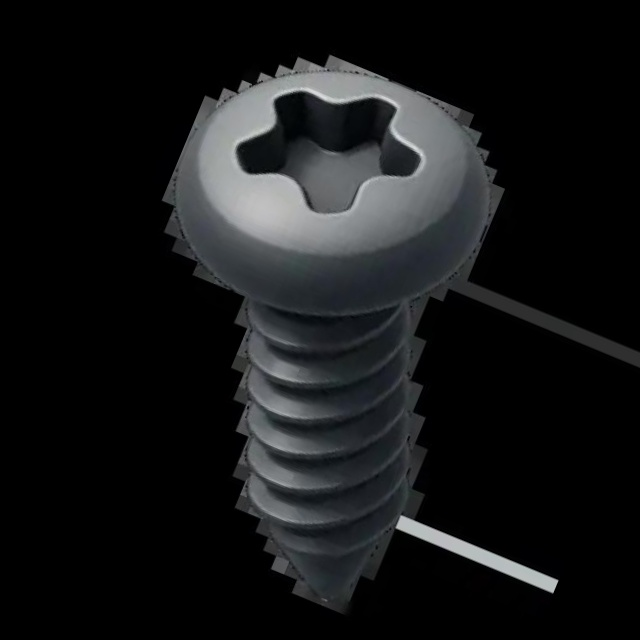torx: (138, 12, 530, 373)
